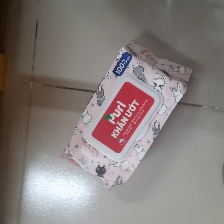Puri hong: (57, 41, 193, 189)
